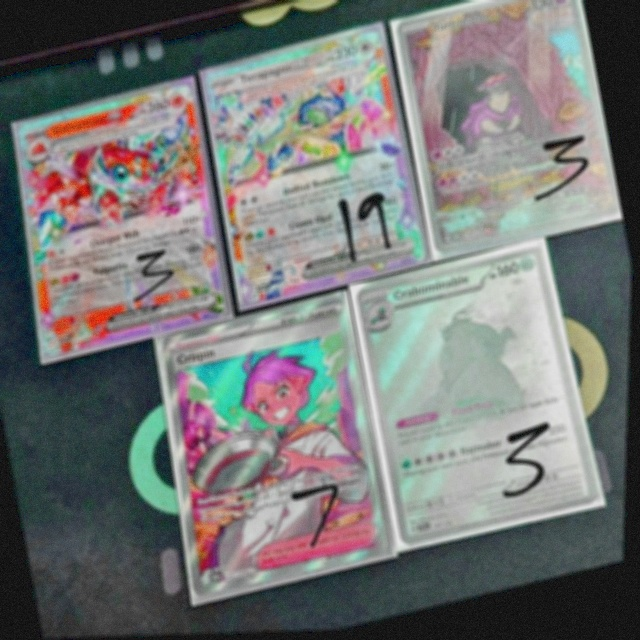card: (357, 249, 602, 547), (162, 299, 392, 599), (204, 28, 428, 307), (395, 0, 623, 257), (18, 83, 227, 356)
